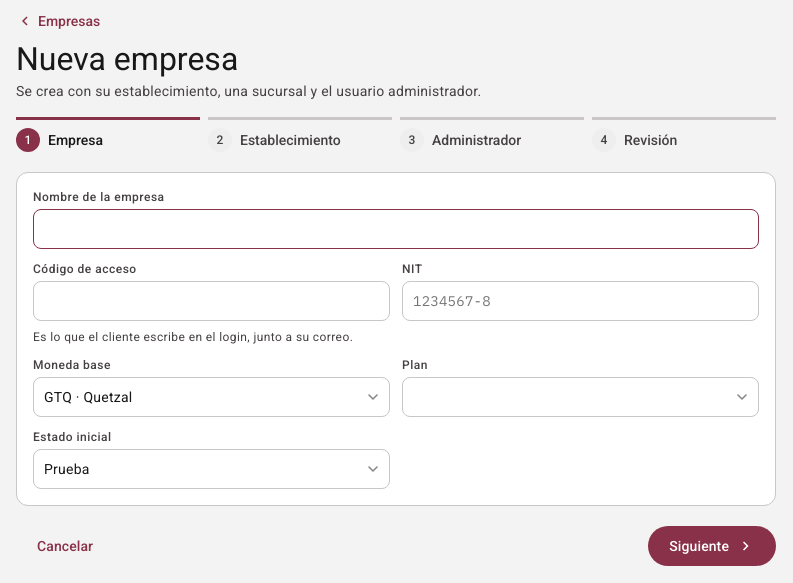
alta guiada de empresa › el código sigue al nombre y avisa si ya está en uso
Type "Madera Viva" into the field labelled "Nombre de la empresa".
click(396, 229); type("Madera Viva")  # box 33,209 -> 759,249
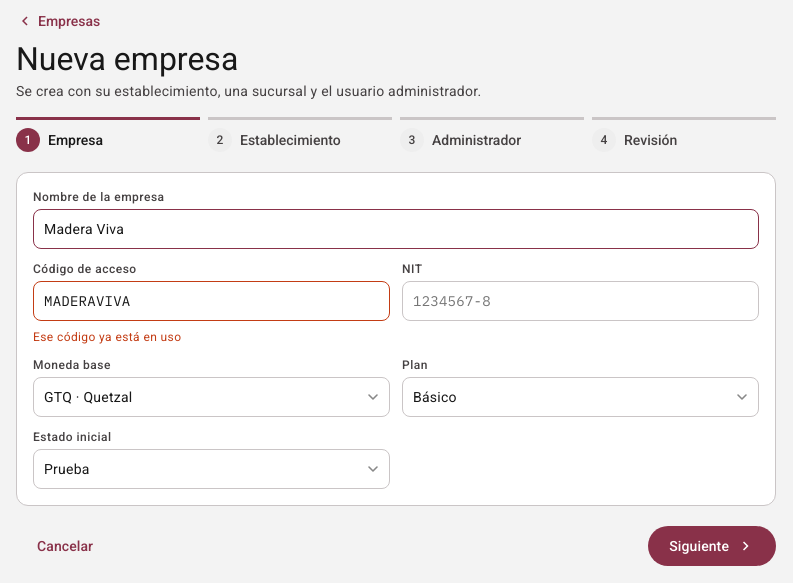
Now the field labelled "Código de acceso" holds "MADERAVIVA", box 33,281 -> 390,321
Now the text "Ese código ya está en uso" is shown, box 33,330 -> 181,344
